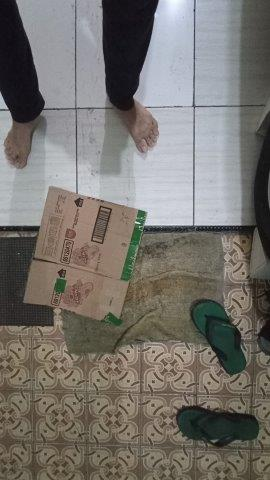kardus: (25, 187, 147, 322)
